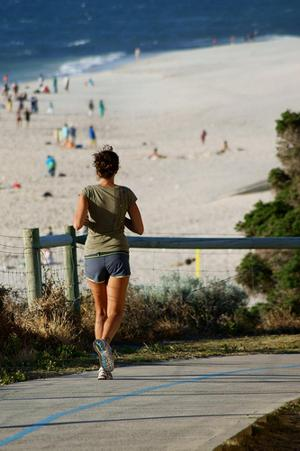person: (75, 146, 144, 382)
